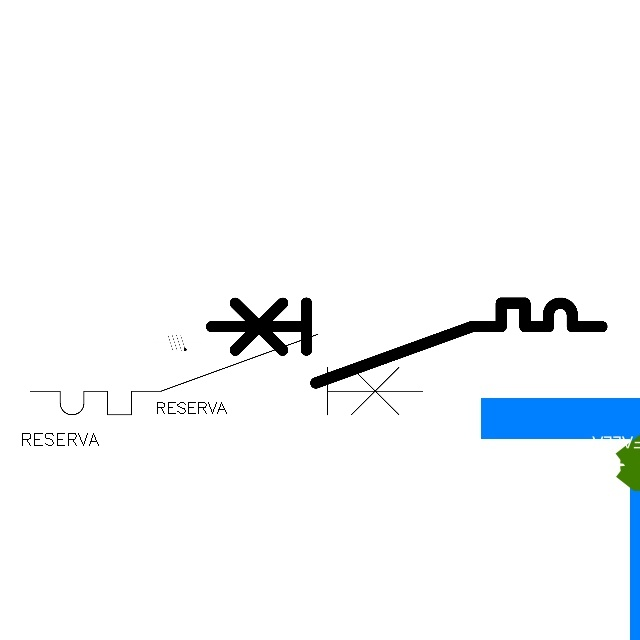interruptor_termomagnetico: (20, 324, 433, 425), (201, 293, 611, 393)
